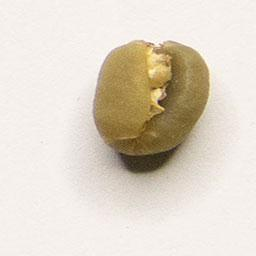peaberry: (87, 35, 215, 162)
